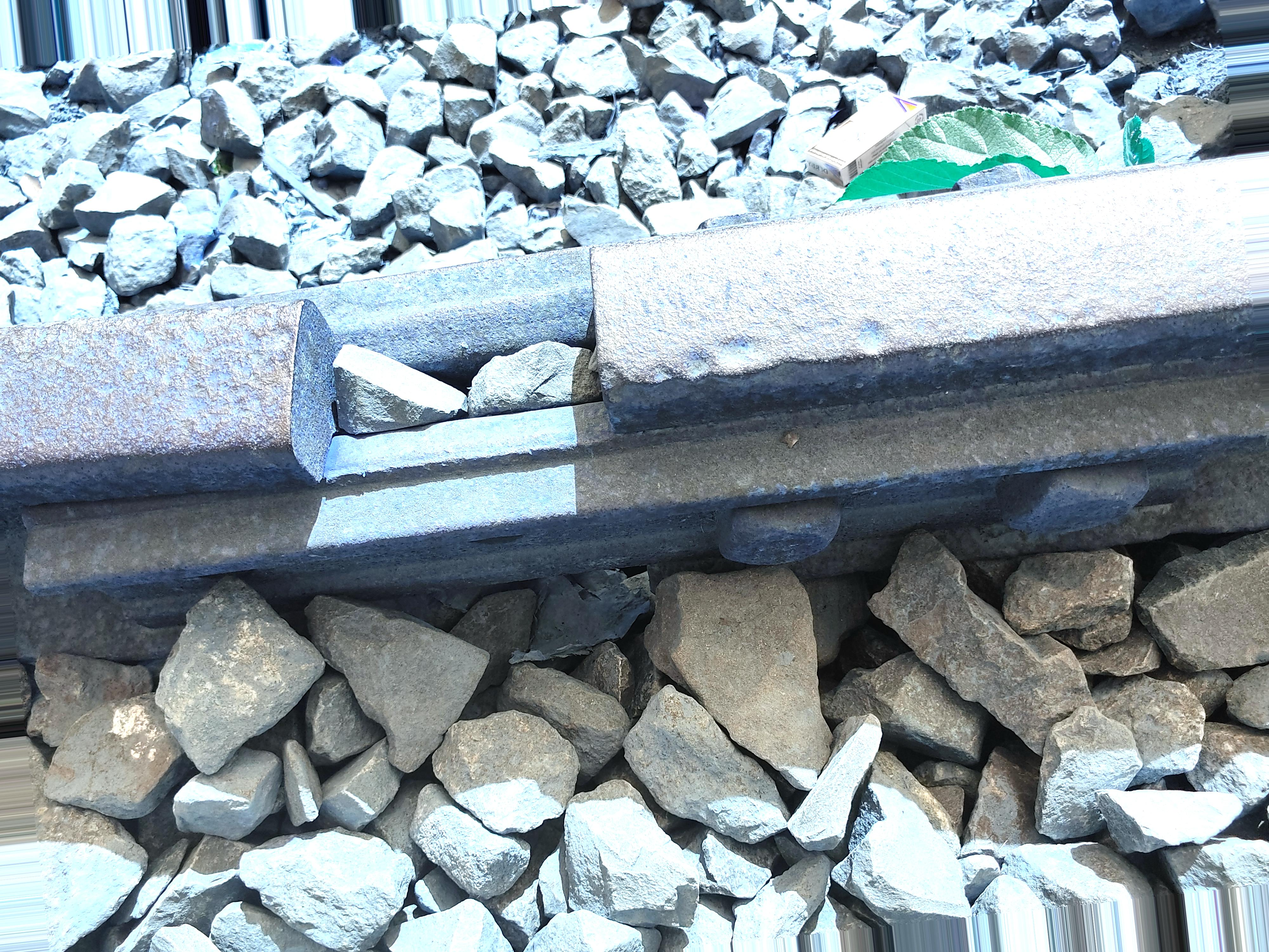tracks_fault: (257, 226, 654, 505)
